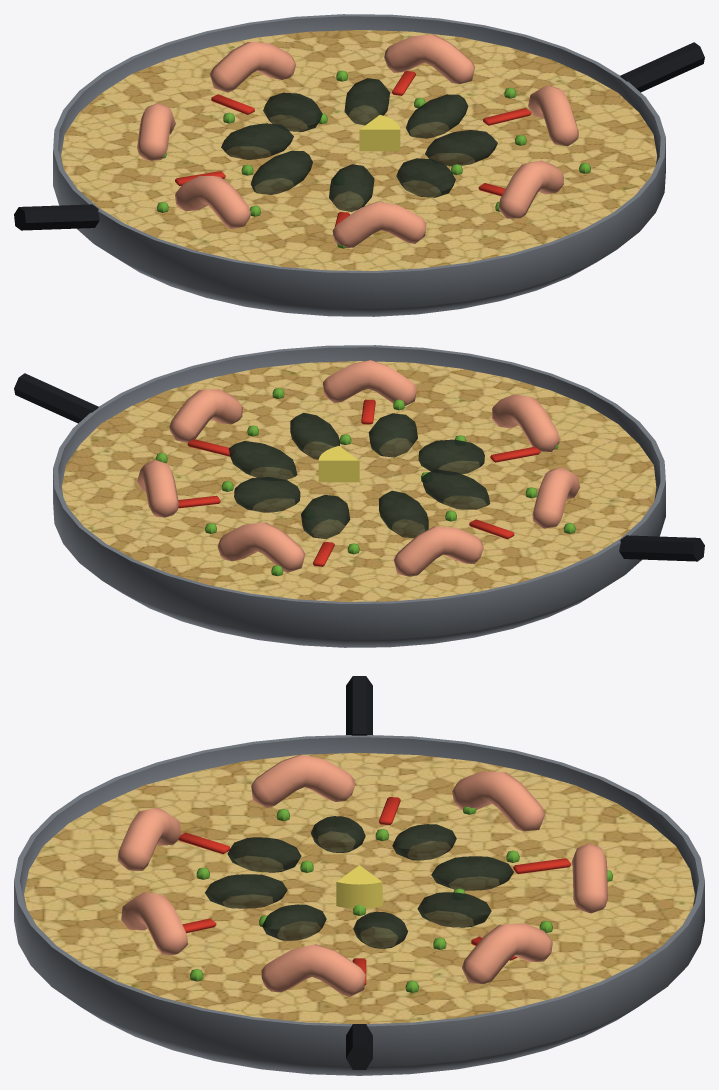
Rendered from meal_paella_pan.glb.
3 renders of one model, top to bottom at view 1: azimuth 30°, elevation 25°; view 2: azimuth 150°, elevation 25°; view 3: azimuth 270°, elevation 25°, orthographic. The views are drawn at different scales.
Visible parts, largest first — view 1: meal_paella_pan; view 2: meal_paella_pan; view 3: meal_paella_pan.
Part boxes in pixels (bbox=[...]): meal_paella_pan: bbox=[14, 14, 704, 316]; meal_paella_pan: bbox=[14, 345, 704, 647]; meal_paella_pan: bbox=[14, 676, 704, 1075].
Size of the model in its own units: 0.4624 by 0.053 by 0.36.
Materials: 8 (1 with a texture image).
